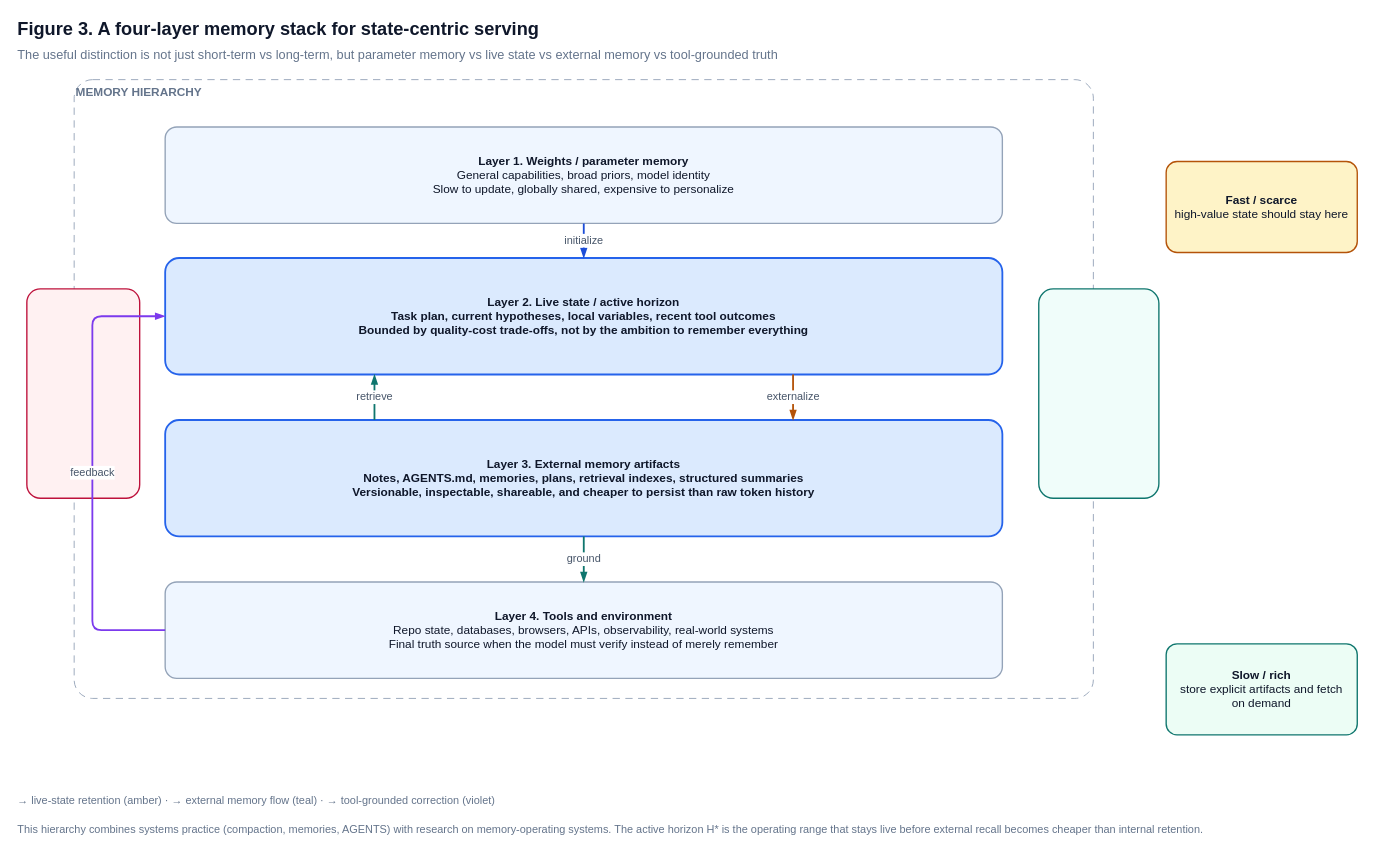
Image size: 1373x859. Some labels were removed from this diagram. The shapes that lost their labels are listed below. From the top down, each one's centre as x and y in pixels, then its label:
At point (83, 393): "Token-preserving mindset: keep as much history as possible".
At point (1098, 393): "State-preserving mindset: retain only what must stay live".
